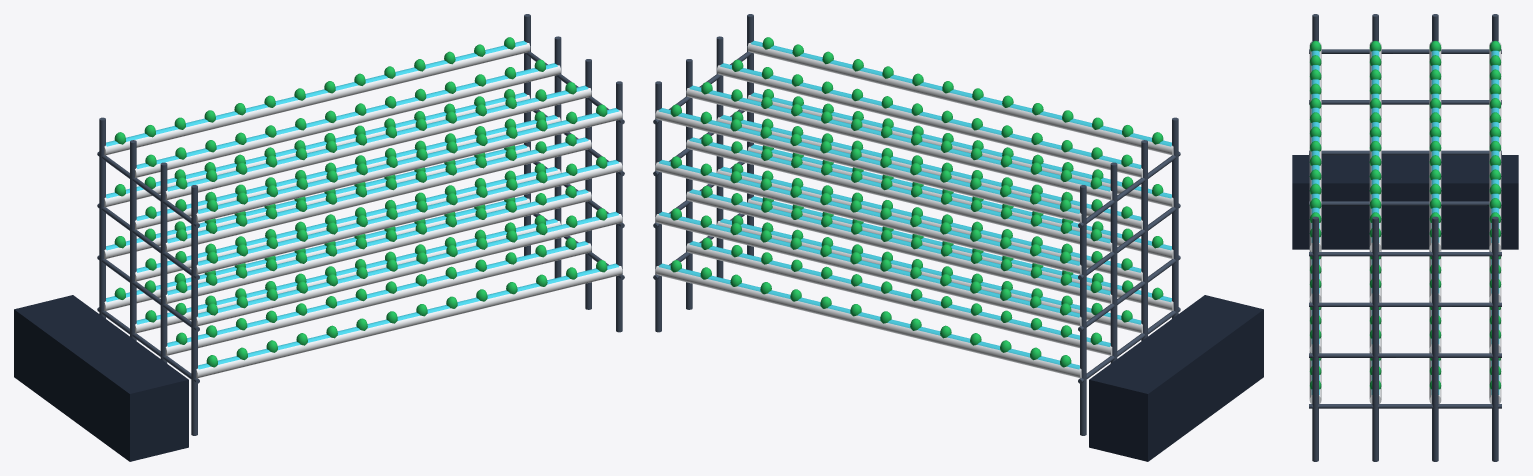
File: hidroponia-36.glb
3 renders of one model, left to right at view 1: azimuth 30°, elevation 25°; view 2: azimuth 150°, elevation 25°; view 3: azimuth 270°, elevation 25°, orthographic. The views are drawn at different scales.
Bounding box in the file's own units: 4.28 × 2.01 × 1.7.
